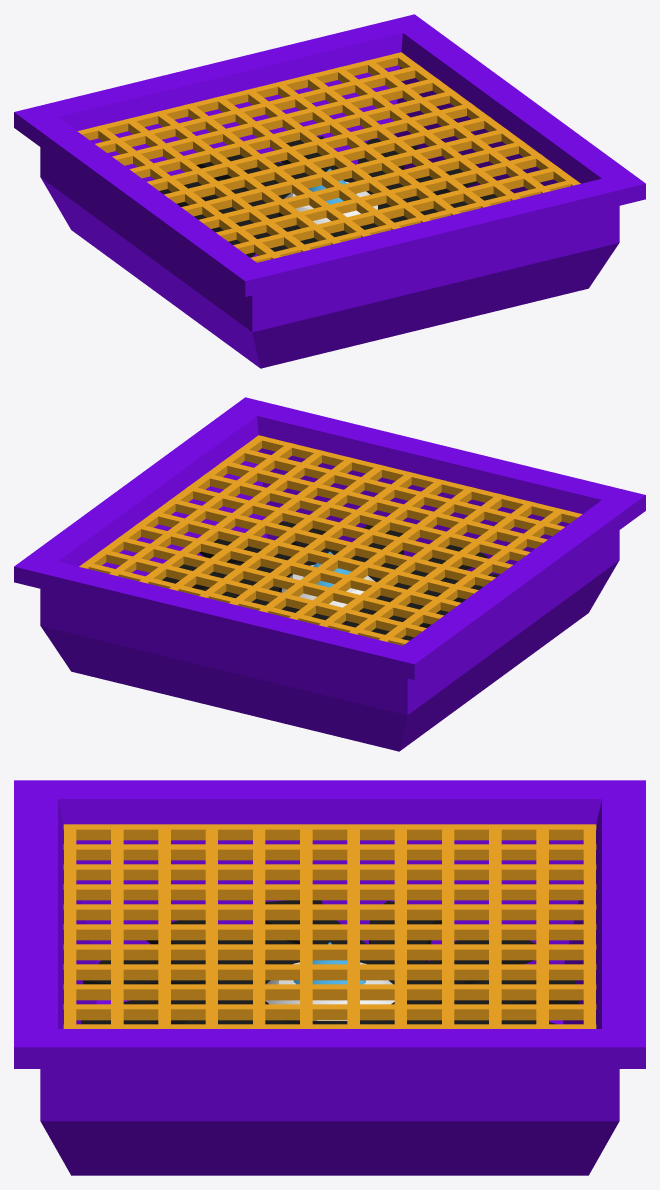
The model's file is Gound_Blower_02.fbx.
The picture shows the model from 3 angles, top to bottom: view 1: azimuth 30°, elevation 25°; view 2: azimuth 150°, elevation 25°; view 3: azimuth 270°, elevation 25°; orthographic projection. The views are drawn at different scales.
Parts seen in each view (by area): view 1: Obstacle_Gound_Blower_02, Obstacle_Gound_Blower_02_Fan; view 2: Obstacle_Gound_Blower_02, Obstacle_Gound_Blower_02_Fan; view 3: Obstacle_Gound_Blower_02, Obstacle_Gound_Blower_02_Fan.
Part boxes in pixels (box(x1,y1,x2,y2)): Obstacle_Gound_Blower_02: box(14, 14, 645, 368); Obstacle_Gound_Blower_02_Fan: box(159, 136, 497, 257); Obstacle_Gound_Blower_02: box(14, 397, 645, 751); Obstacle_Gound_Blower_02_Fan: box(162, 522, 499, 640); Obstacle_Gound_Blower_02: box(14, 780, 645, 1175); Obstacle_Gound_Blower_02_Fan: box(81, 900, 578, 1024).
Bounding box in the file's own units: 322 × 101 × 322.
Materials: 1 (1 with a texture image).
